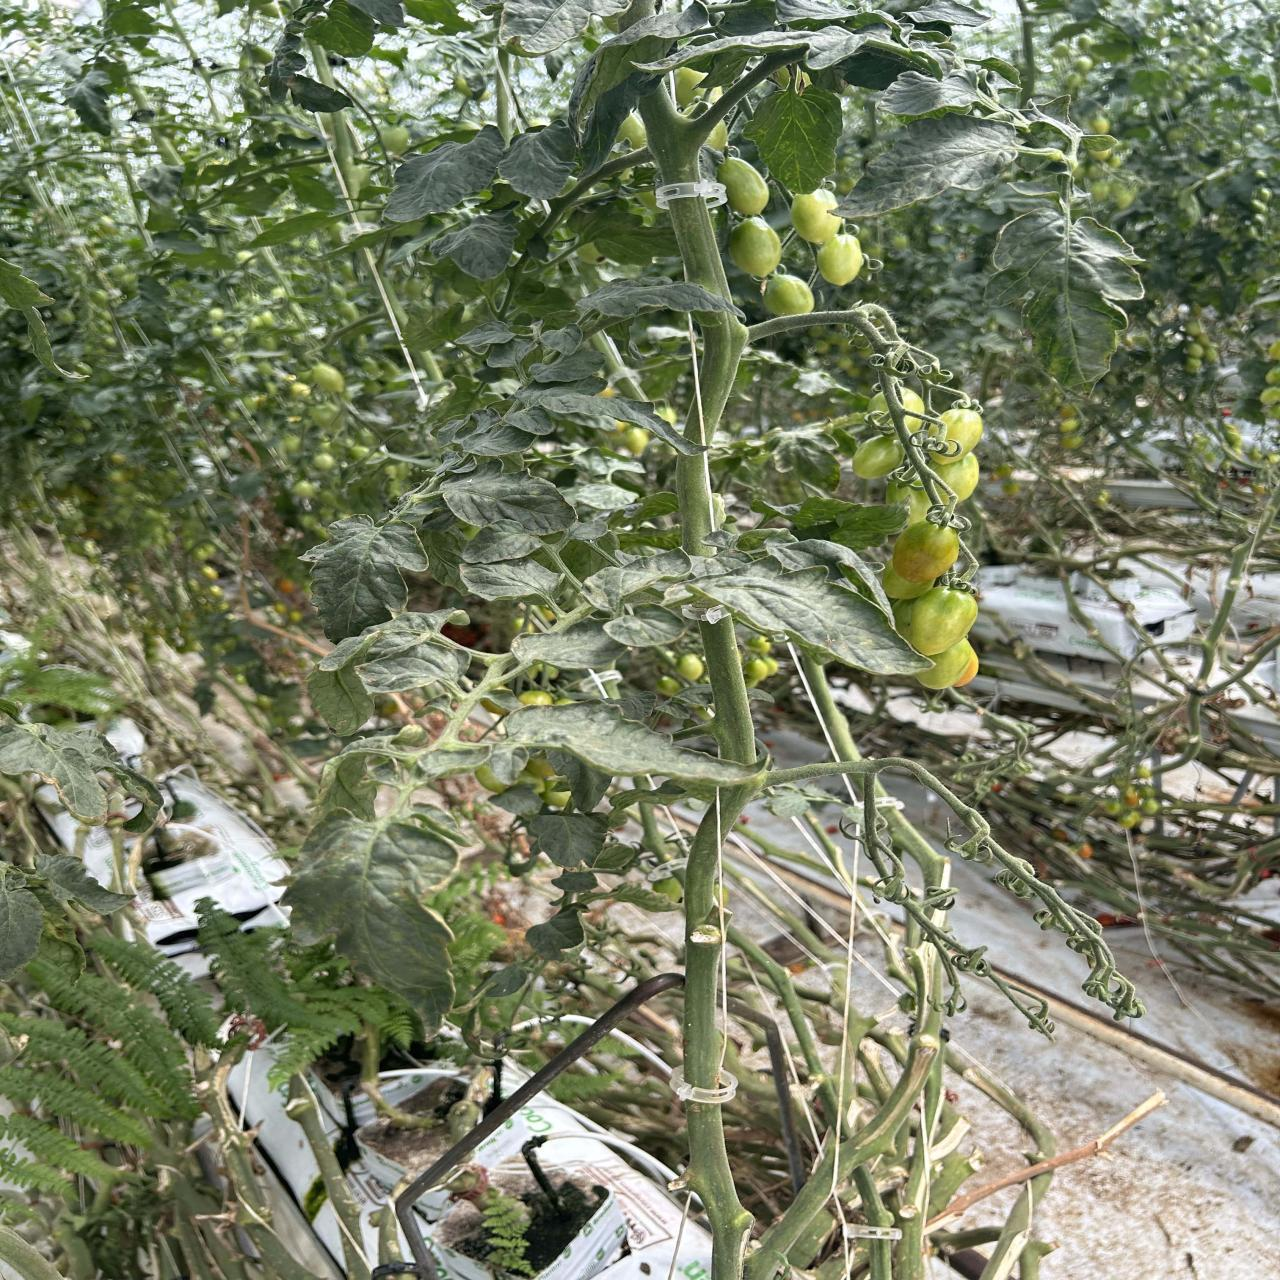Hoja: (692, 561, 928, 675), (308, 629, 381, 736), (511, 619, 626, 668), (359, 644, 469, 693), (461, 559, 560, 599), (461, 519, 543, 564)
Hoja rugoso: (282, 812, 463, 1029), (503, 702, 756, 785), (839, 115, 1021, 217), (301, 517, 428, 641), (383, 127, 503, 222), (578, 280, 738, 319), (431, 211, 518, 280), (498, 123, 576, 200)
Pedunculo: (682, 787, 743, 1280), (639, 77, 733, 300), (675, 312, 744, 559), (699, 618, 756, 762)
Tomate: (905, 586, 978, 656), (729, 217, 781, 279), (915, 639, 979, 688), (717, 157, 769, 216), (791, 189, 842, 245), (932, 408, 982, 463), (931, 454, 979, 504), (818, 233, 865, 285), (764, 273, 815, 316)
Tomate Rugoso: (892, 520, 959, 583), (852, 436, 904, 478)
